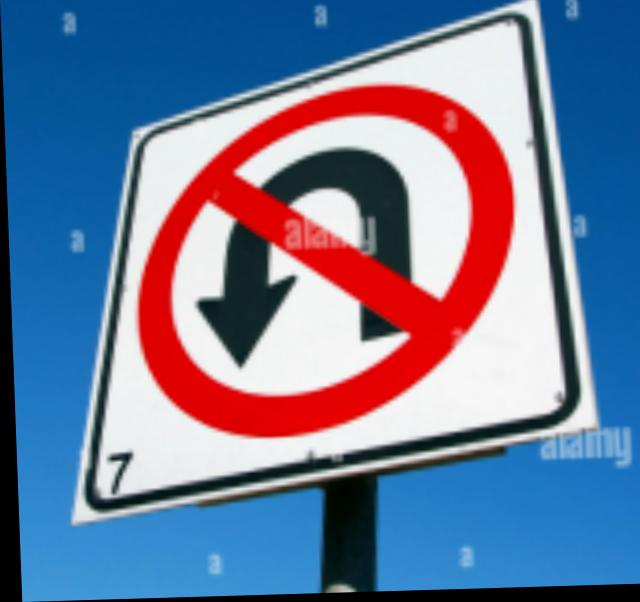not_u_turn_left: (114, 99, 532, 440)
